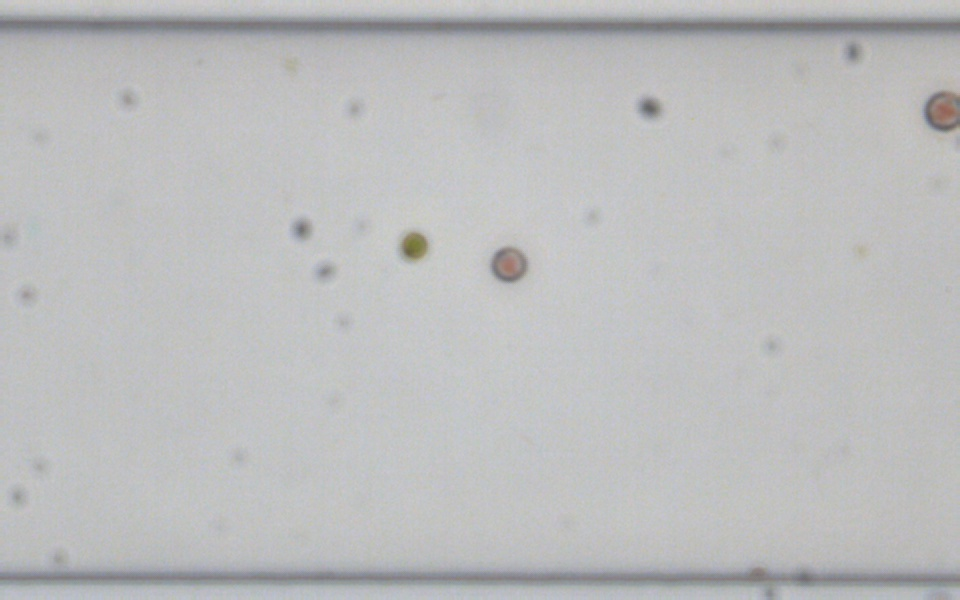Effrenium: (400, 230, 428, 259)
Porphyridium: (920, 87, 959, 131), (488, 244, 529, 284)
